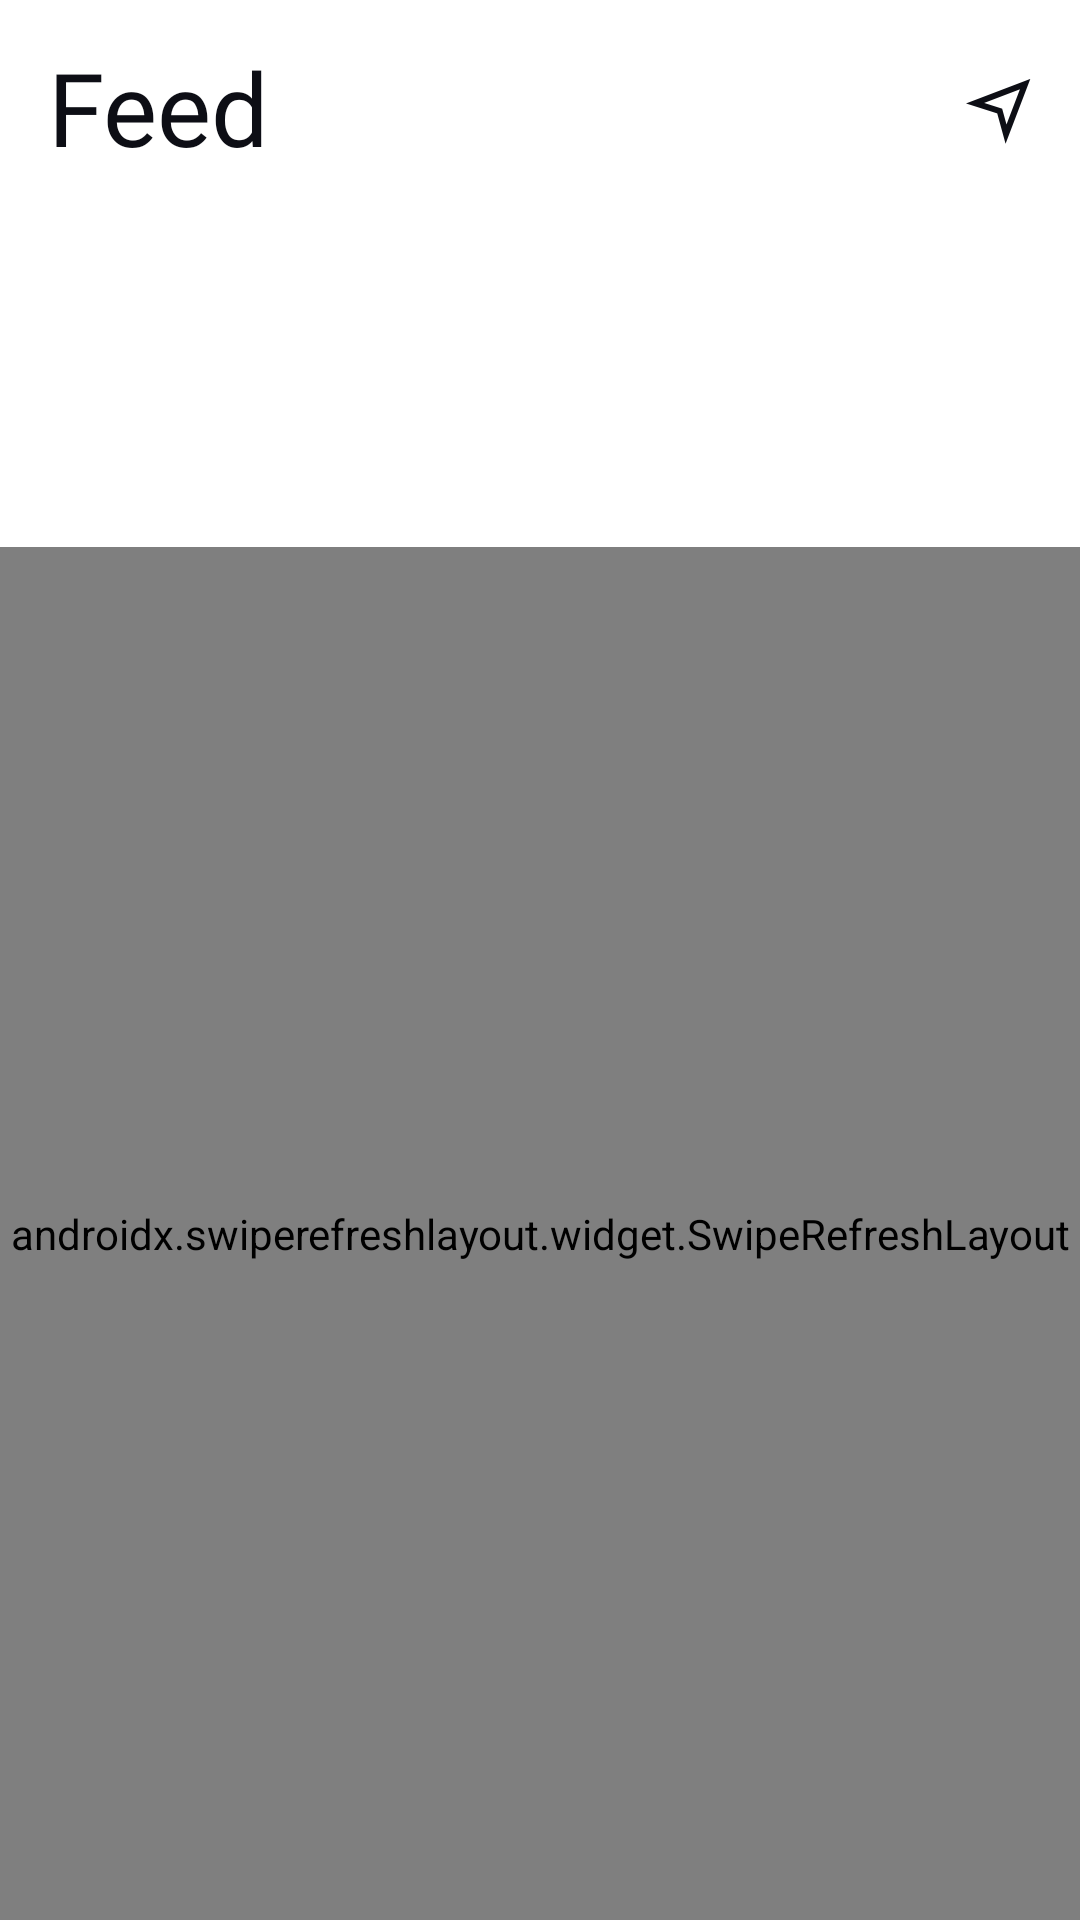

Where to tap for icons on this 1080px x 1920px app screen, as (x=x, y=y):
direct: (x=998, y=111)
